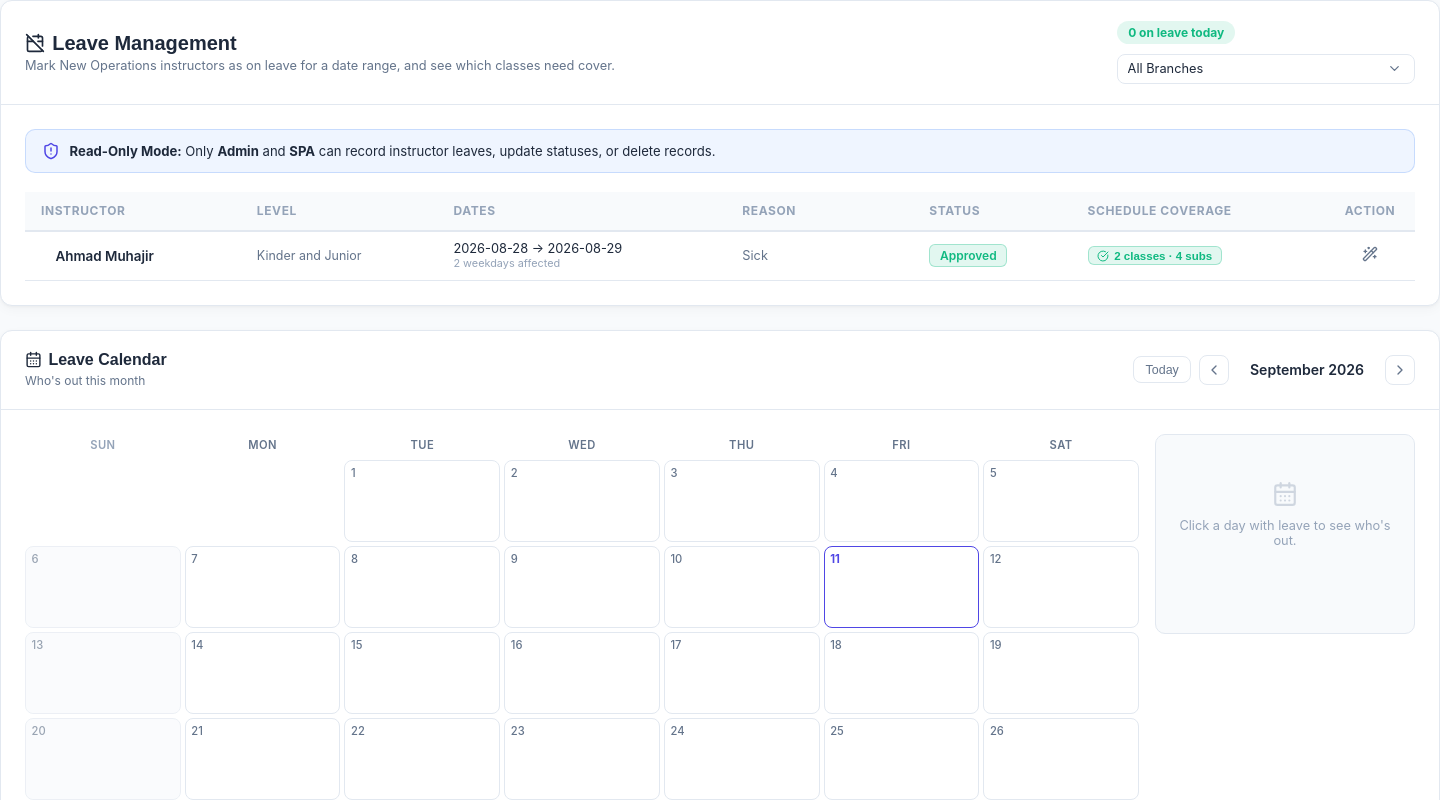
Test: NewLeavePage Substitute Recommendations & Schedule Coverage › opens impact details and recommends eligible substitute instructors
Note: Click the coverage button or wand icon
Click the button "2 classes · 4 subs". click: (1155, 256)
box: [1088,246,1222,265]
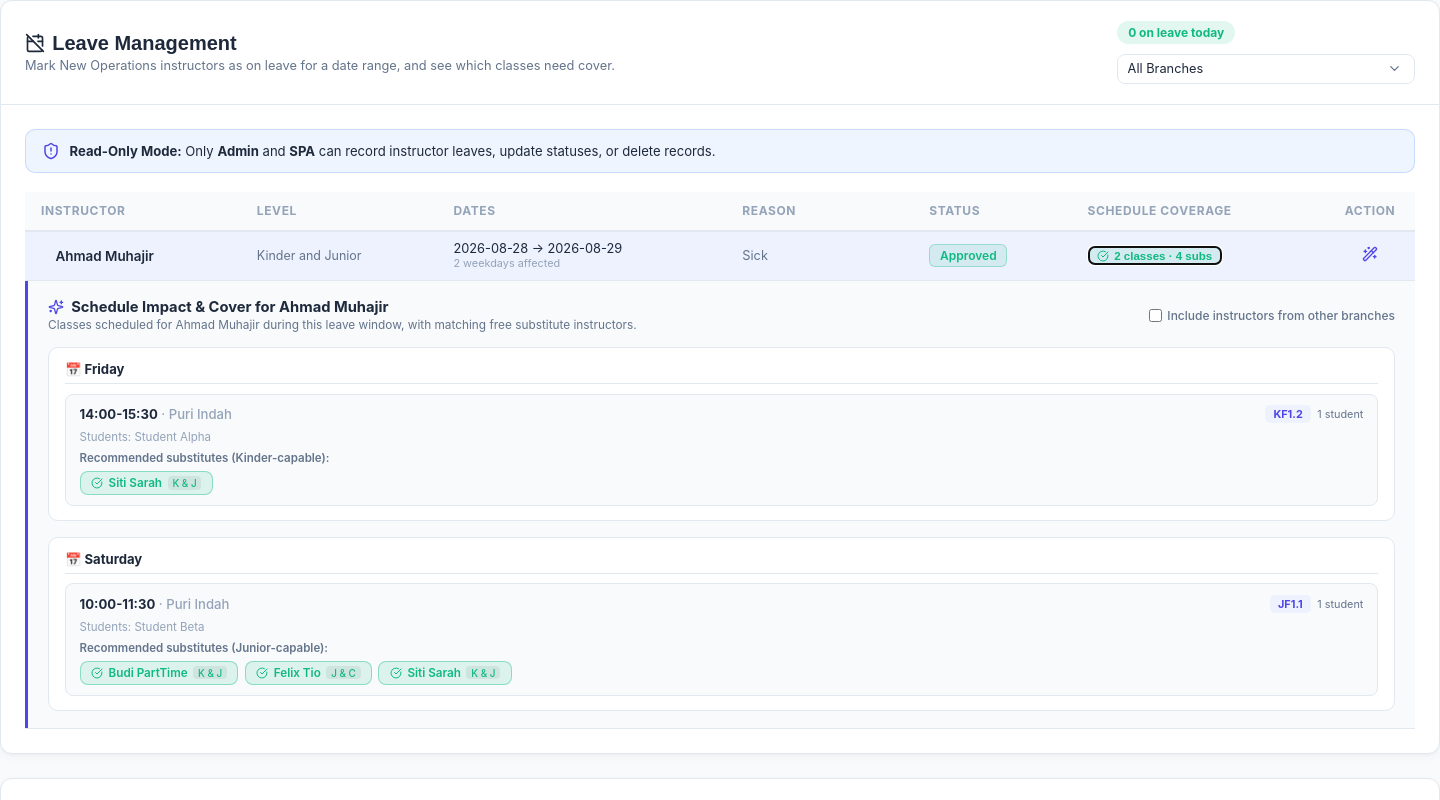
Check: the heading "Schedule Impact & Cover for Ahmad Muhajir" is shown, box [48,298,388,316]
Check: the text "📅 Friday" is shown, box [65,361,1378,384]
Check: the text "📅 Saturday" is shown, box [65,551,1378,574]
